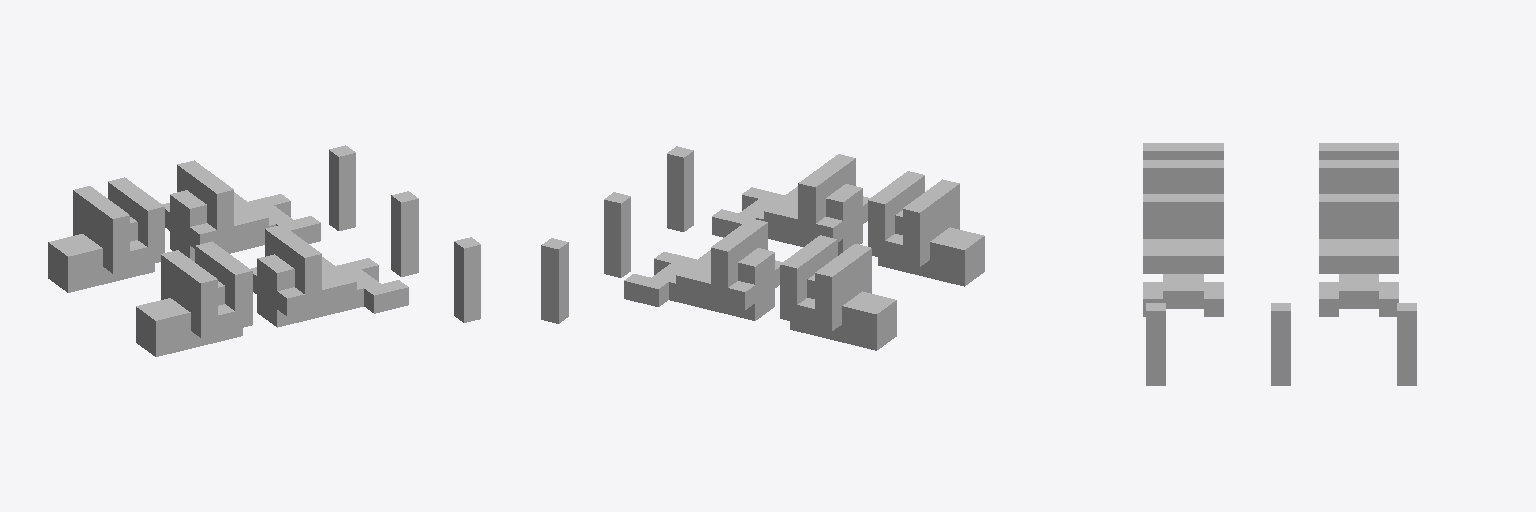
File: salmon 2.obj
3 views of the same model, side by side, from view 1: azimuth 30°, elevation 25°; view 2: azimuth 150°, elevation 25°; view 3: azimuth 270°, elevation 25° (orthographic).
Bounding box in the file's own units: 4.42 × 1.4 × 3.3.